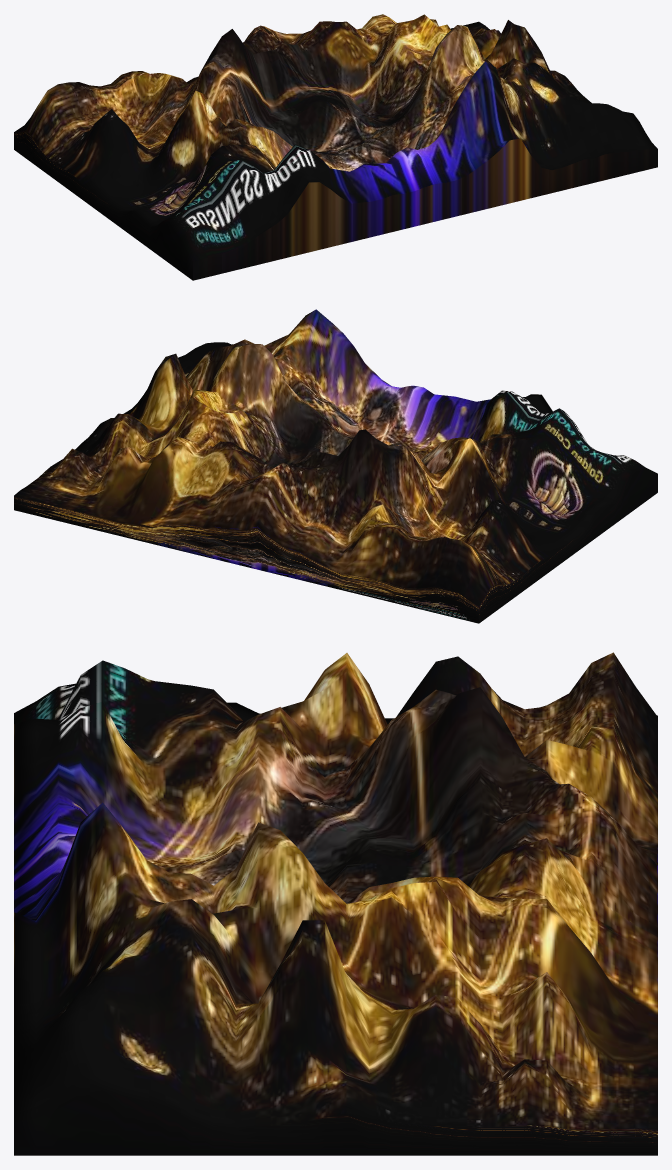
File: CAREER_08_VFX_01_Money_Aura.glb
3 renders of one model, top to bottom at view 1: azimuth 30°, elevation 25°; view 2: azimuth 150°, elevation 25°; view 3: azimuth 270°, elevation 25°, orthographic. The views are drawn at different scales.
Parts seen in each view (by area): view 1: CAREER_08_VFX_01_Money_Aura; view 2: CAREER_08_VFX_01_Money_Aura; view 3: CAREER_08_VFX_01_Money_Aura.
Part boxes in pixels (bbox=[...]): CAREER_08_VFX_01_Money_Aura: bbox=[14, 14, 657, 280]; CAREER_08_VFX_01_Money_Aura: bbox=[14, 309, 657, 623]; CAREER_08_VFX_01_Money_Aura: bbox=[14, 652, 657, 1155].
Size of the model in its own units: 2 by 0.51 by 1.33.
1 material, 1 textured.
